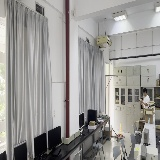fire: (117, 122, 122, 136)
